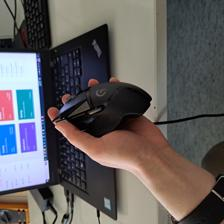mouse: (51, 81, 153, 137)
